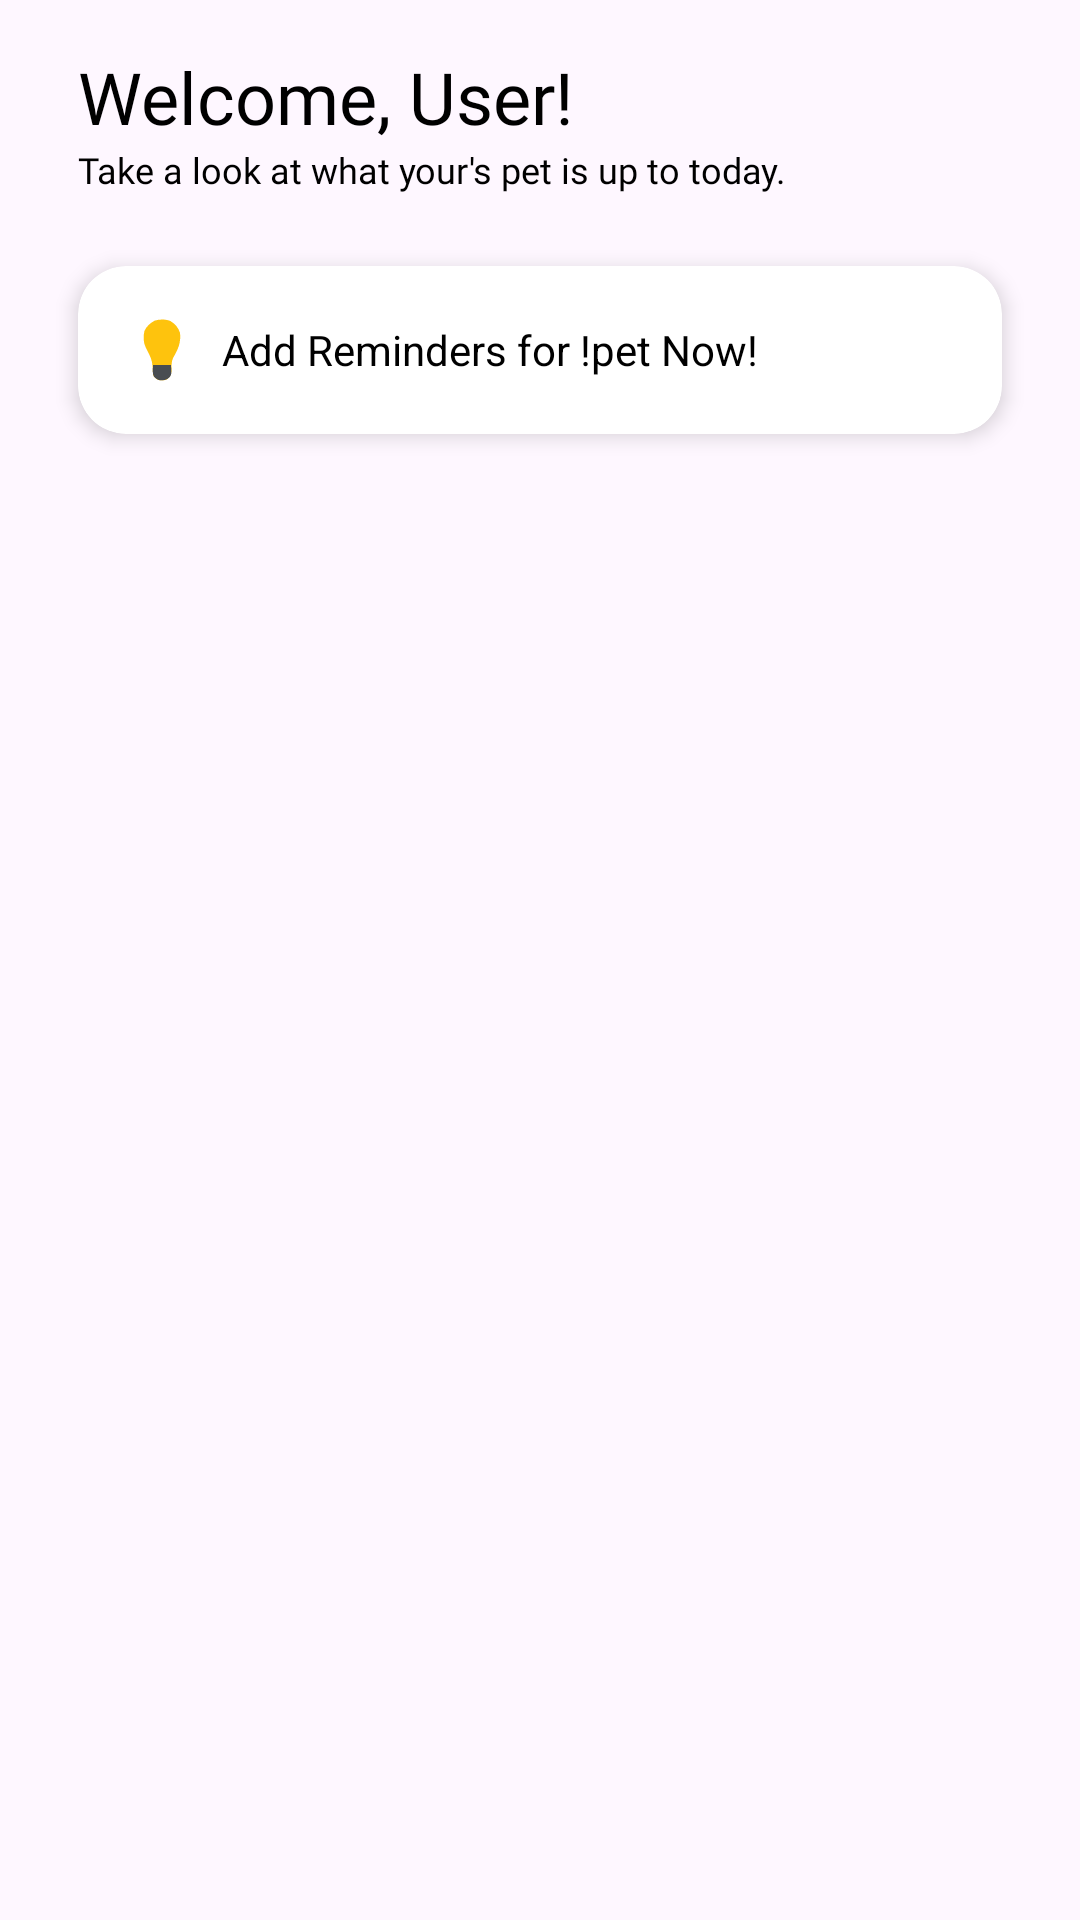

Named icons in this screenshot (1080 x 1920) and their centers, point (x, y):
lightbulb: point (162, 350)
